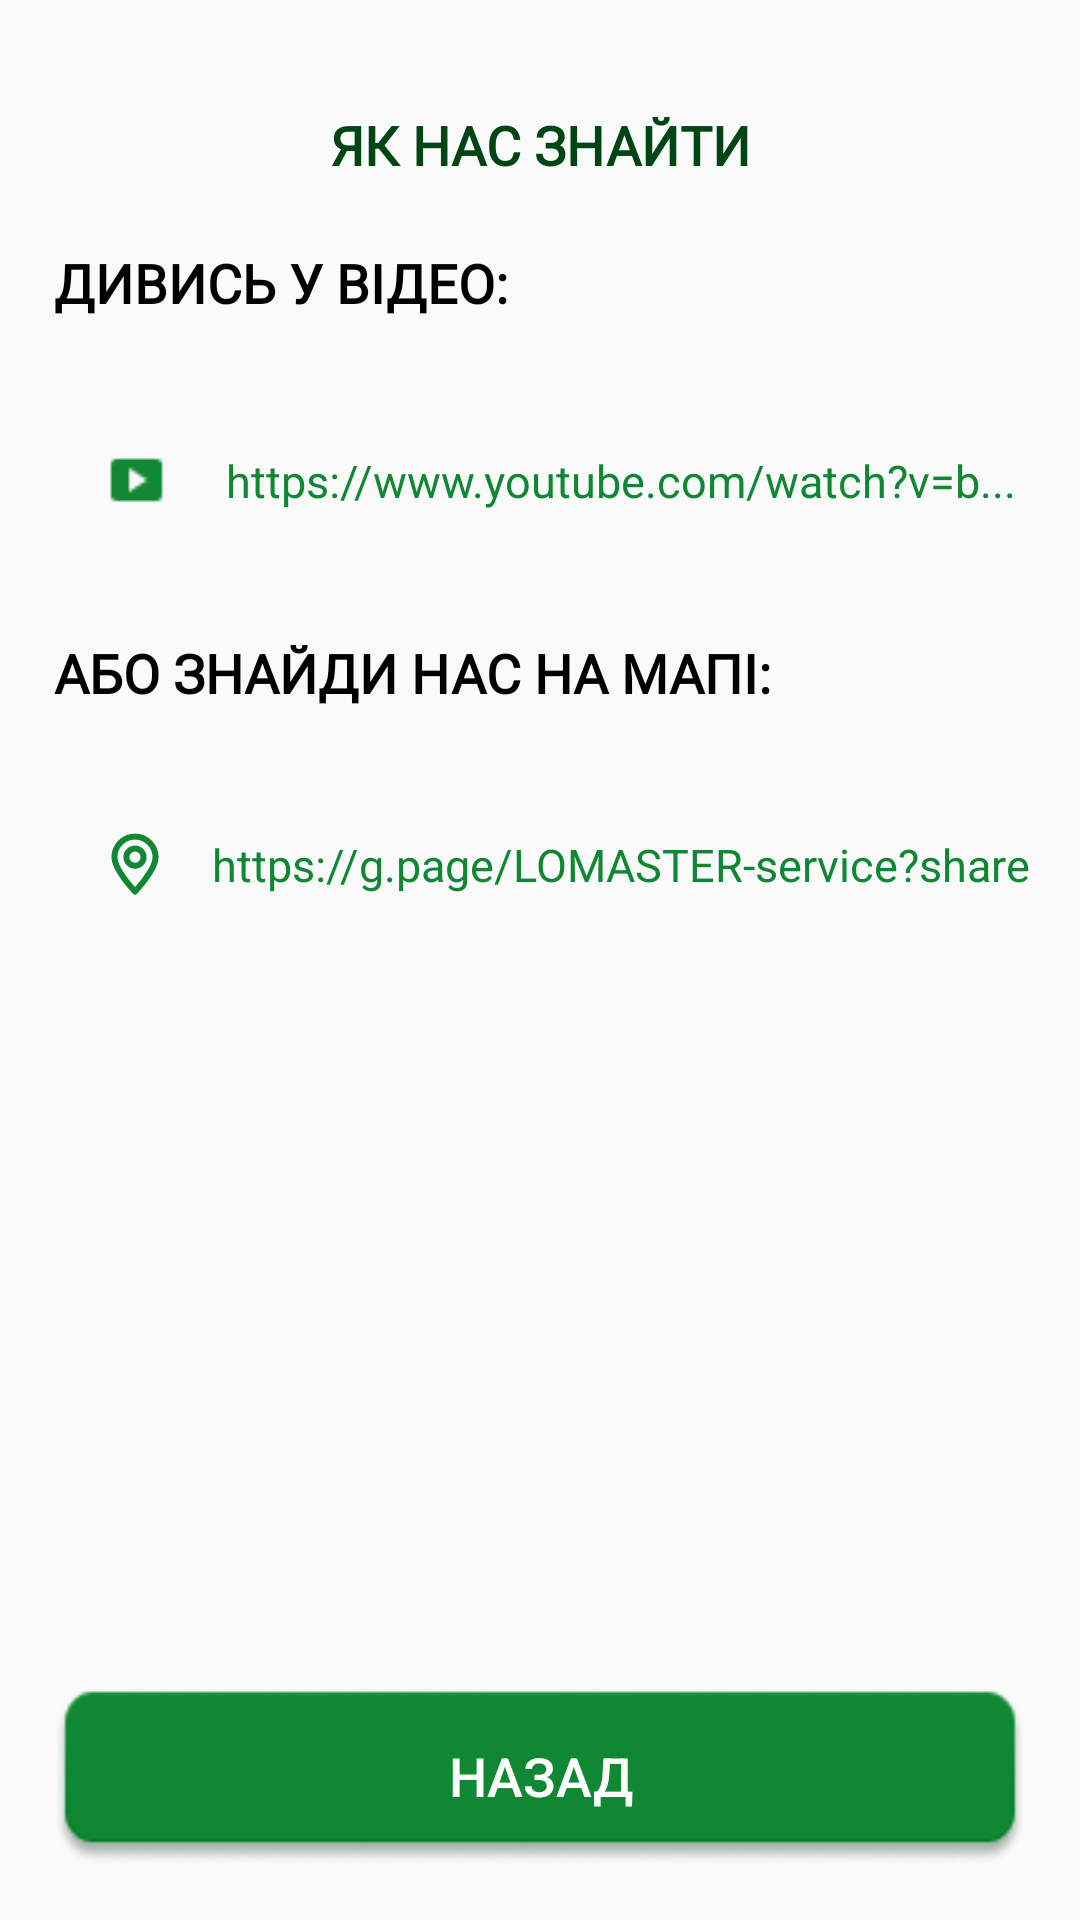

Where to tap for icons on this 1080px×1920px app screen, as [x,y]:
location: [135,864]
video: [136,480]
